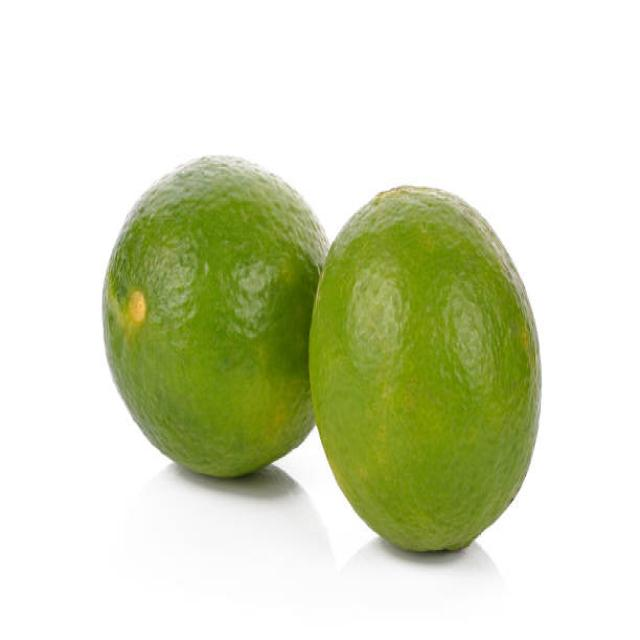Unripe: (307, 183, 543, 554)
